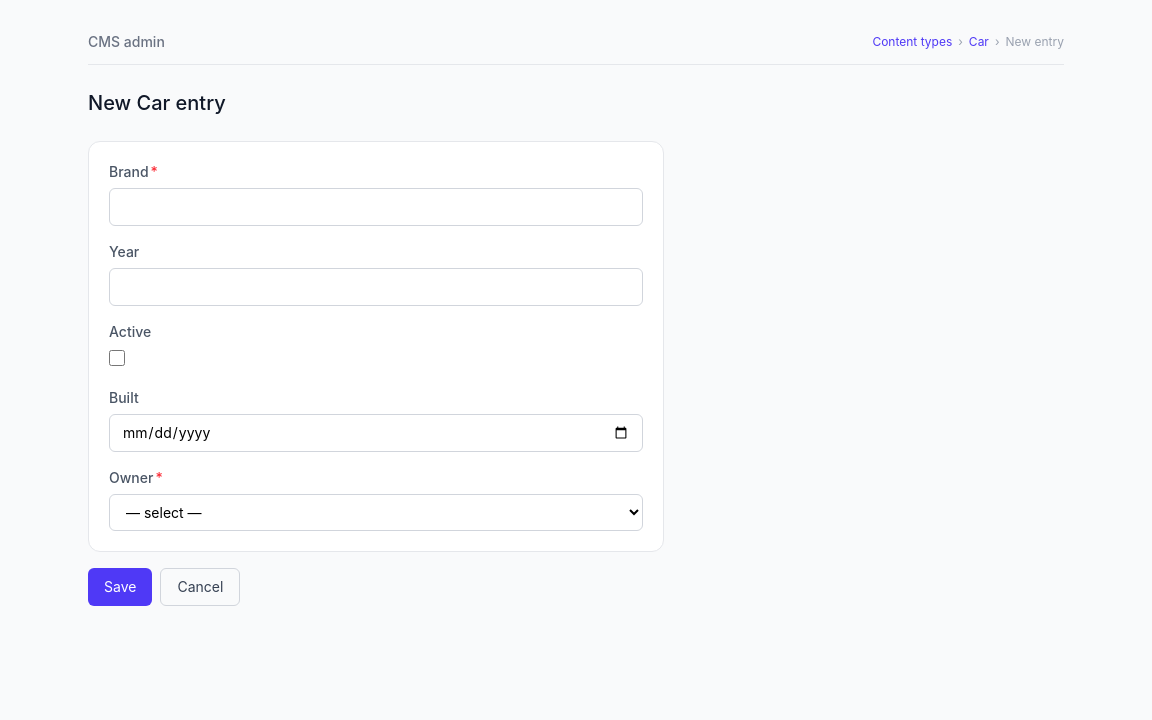
Test case: NewEntry › shows "Owner is required" when required reference field has no selection
Type "Toyota" into the field labelled "Brand*". click: {"x": 376, "y": 207}
box: left=109, top=188, right=643, bottom=226
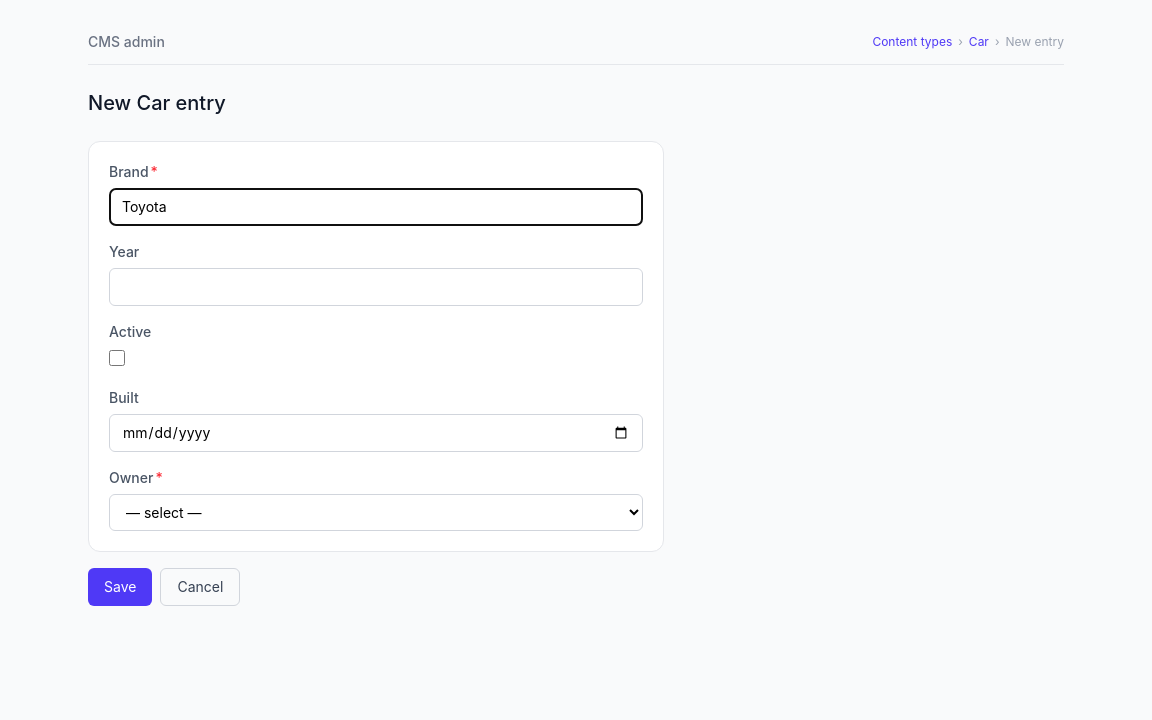
Submit the form, box left=88, top=141, right=664, bottom=606
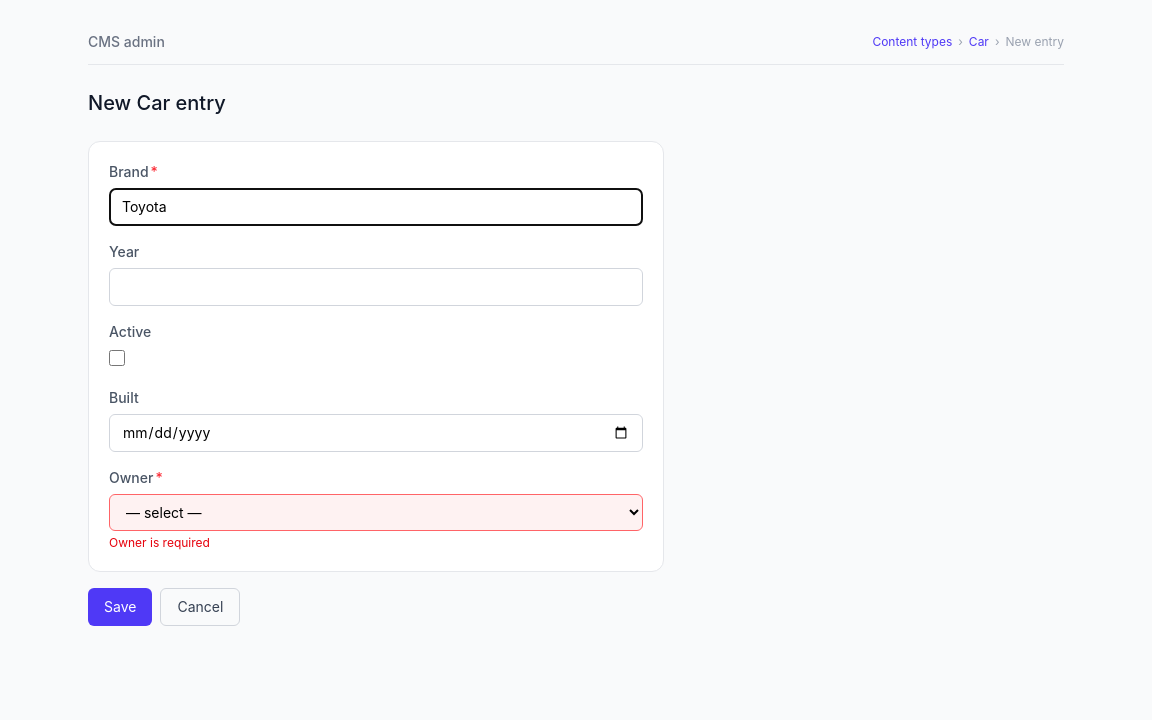
Check: the text "Owner is required" is shown, box left=109, top=535, right=210, bottom=550
